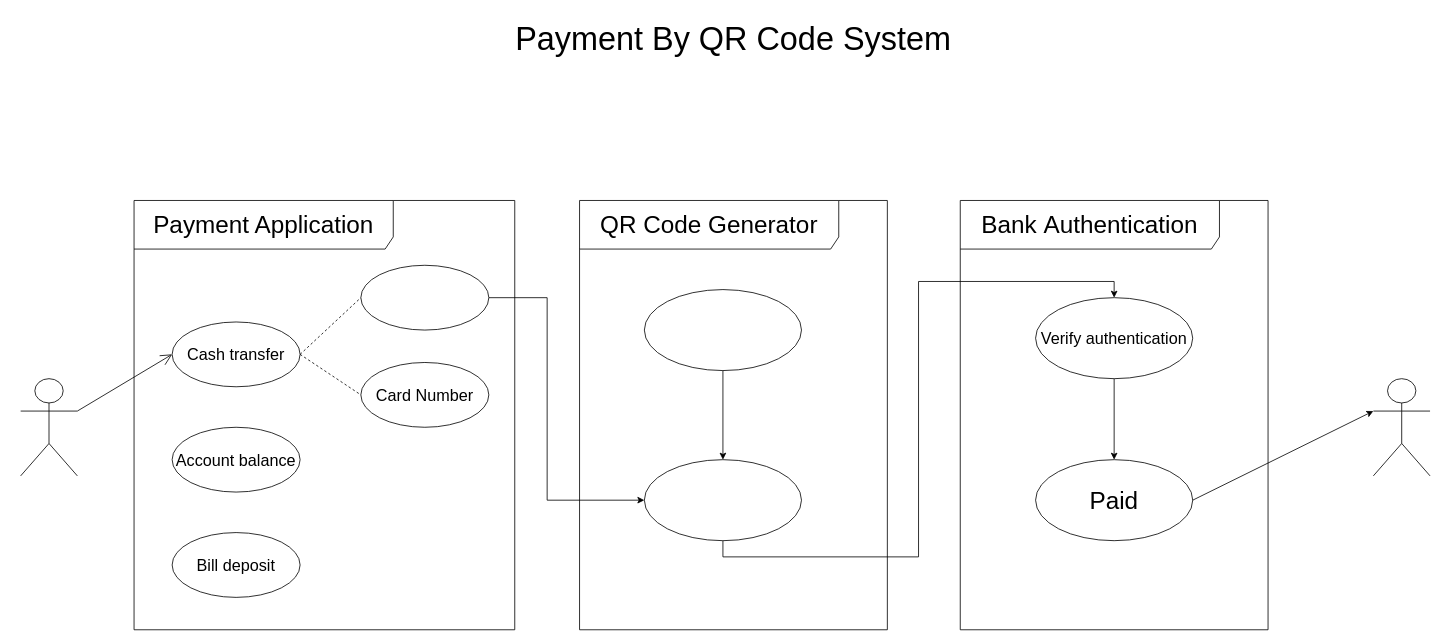
This 1444x644 diagram has some shape labels left out. Each missing label, with the centre of its shape:
Customer: the point at 48,427
Display QR Code: the point at 722,500
Generate QR Code: the point at 722,330
Scan QR code: the point at 424,297
Seller: the point at 1401,427
